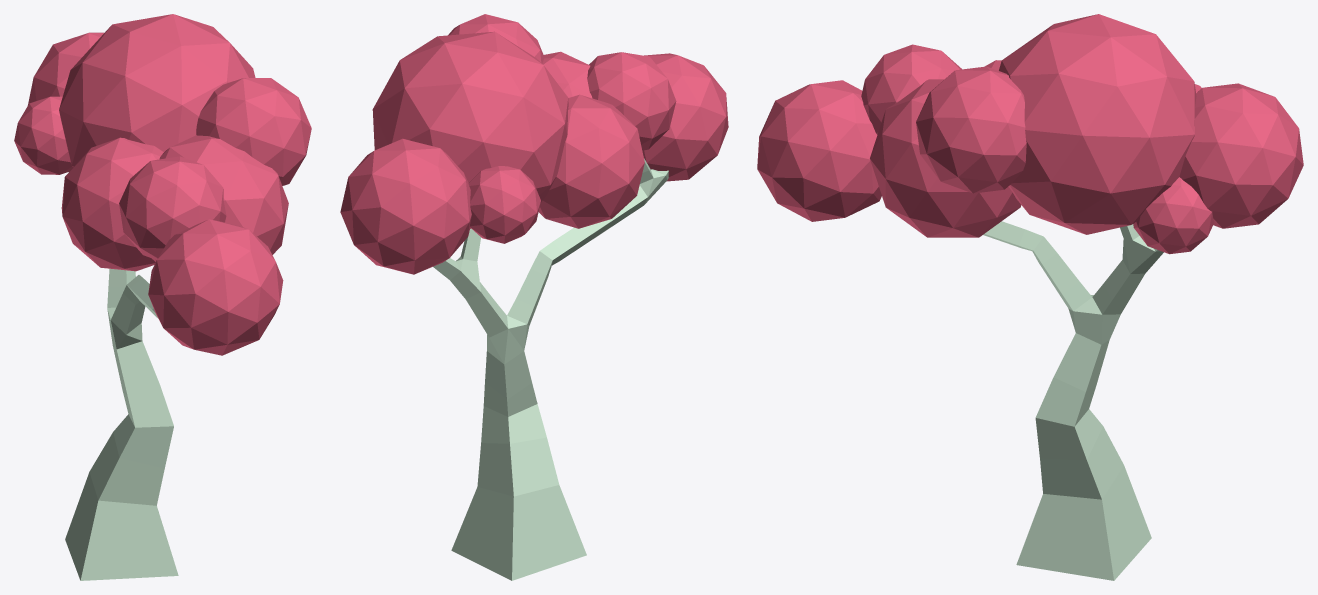
File: tree1.fbx
3 views of the same model, side by side, from view 1: azimuth 30°, elevation 25°; view 2: azimuth 150°, elevation 25°; view 3: azimuth 270°, elevation 25° (orthographic). The views are drawn at different scales.
Parts seen in each view (by area): view 1: Cube, Icosphere.003, Icosphere, Icosphere.002, Icosphere.008, Icosphere.001, Icosphere.005, Icosphere.006, Icosphere.004; view 2: Cube, Icosphere.003, Icosphere.004, Icosphere.002, Icosphere, Icosphere.001, Icosphere.006, Icosphere.008, Icosphere.005; view 3: Icosphere.003, Cube, Icosphere, Icosphere.004, Icosphere.008, Icosphere.005, Icosphere.001, Icosphere.007.
Boxes of the visible parts, box(x1,y1,x2,y2) form: Cube: box(65, 268, 178, 580); Icosphere.003: box(59, 14, 255, 167); Icosphere: box(148, 219, 283, 355); Icosphere.002: box(61, 137, 163, 271); Icosphere.008: box(196, 78, 311, 185); Icosphere.001: box(119, 156, 226, 259); Icosphere.005: box(152, 135, 288, 261); Icosphere.006: box(14, 96, 72, 174); Icosphere.004: box(27, 32, 104, 105); Cube: box(433, 158, 668, 580); Icosphere.003: box(372, 31, 568, 228); Icosphere.004: box(340, 138, 471, 274); Icosphere.002: box(538, 94, 644, 228); Icosphere: box(642, 53, 728, 181); Icosphere.001: box(587, 52, 676, 150); Icosphere.006: box(468, 166, 540, 243); Icosphere.008: box(448, 14, 544, 63); Icosphere.005: box(542, 51, 592, 98); Icosphere.003: box(999, 14, 1196, 234); Cube: box(983, 221, 1163, 580); Icosphere: box(757, 80, 881, 221); Icosphere.004: box(1179, 83, 1303, 228); Icosphere.008: box(916, 66, 1026, 193); Icosphere.005: box(870, 79, 1021, 237); Icosphere.001: box(861, 44, 961, 134); Icosphere.007: box(1133, 177, 1214, 254).
Size of the model in its own units: 317 by 720 by 650.
